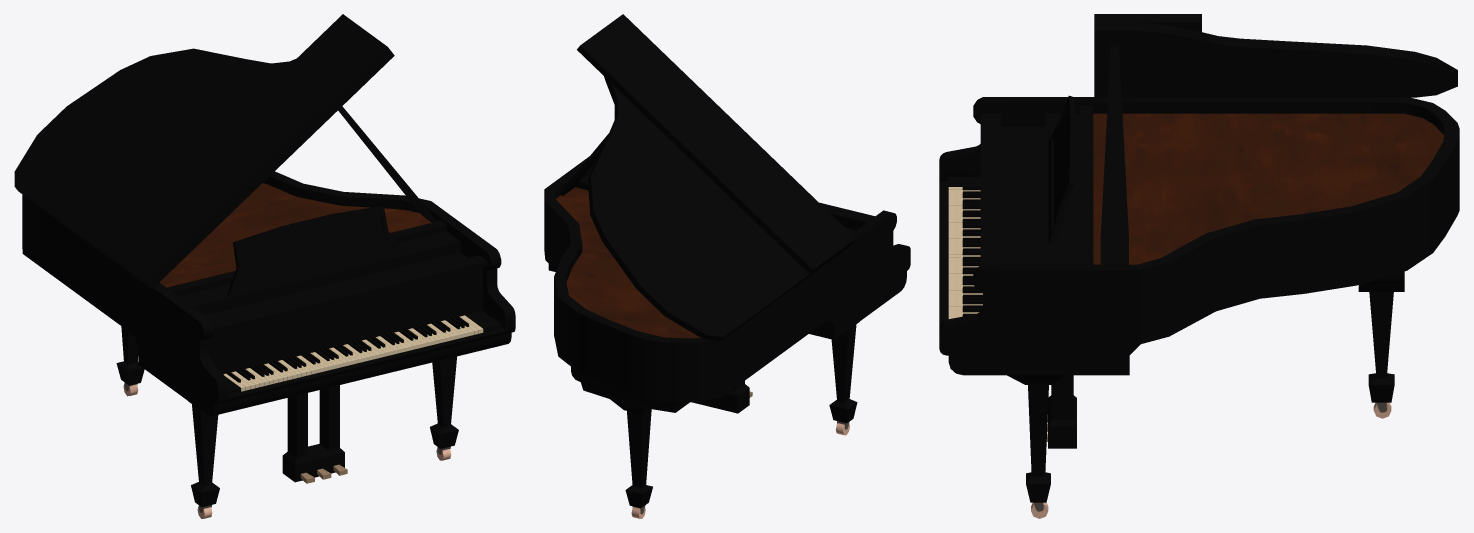
The model's file is piano-classic.glb.
3 renders of one model, left to right at view 1: azimuth 30°, elevation 25°; view 2: azimuth 150°, elevation 25°; view 3: azimuth 270°, elevation 25°, orthographic. The views are drawn at different scales.
Visible parts, largest first — view 1: Cap, Front, body, Cap2, Note, Cube.002, leg, key_whait, key_black.001, Stick, key_black.002, leg_back (+1 smaller); view 2: Cap, body, Cap2, Front, leg_back, leg, Cube.002, Stick; view 3: body, Front, Cap, Stick, leg_back, Note, leg, key_whait, Cube.002, key_black.001, Cap2, key_black.002.
Part boxes in pixels (box(x1,y1,x2,y2)): Cap: box(14, 48, 394, 288); Front: box(159, 183, 487, 374); body: box(22, 171, 515, 416); Cap2: box(100, 14, 390, 284); Note: box(227, 206, 405, 296); Cube.002: box(282, 385, 344, 482); leg: box(188, 356, 458, 506); key_whait: box(223, 315, 483, 391); key_black.001: box(250, 315, 469, 376); Stick: box(338, 106, 436, 222); key_black.002: box(235, 319, 450, 380); leg_back: box(116, 326, 144, 385); Cap: box(587, 76, 852, 341); body: box(544, 156, 910, 402); Cap2: box(577, 14, 855, 273); Front: box(556, 174, 874, 338); leg_back: box(571, 367, 689, 508); leg: box(829, 321, 859, 423); Cube.002: box(692, 381, 749, 413); Stick: box(559, 133, 608, 196); body: box(939, 97, 1459, 375); Front: box(980, 105, 1443, 265); Cap: box(1094, 22, 1457, 97); Stick: box(1100, 44, 1128, 264); leg_back: box(1358, 271, 1404, 402); Note: box(1048, 95, 1075, 243); leg: box(1007, 375, 1063, 502); key_whait: box(948, 187, 982, 318); Cube.002: box(1048, 375, 1076, 448); key_black.001: box(962, 199, 982, 316); Cap2: box(1094, 14, 1201, 31); key_black.002: box(962, 191, 982, 312).
Size of the model in its own units: 1.51 by 1.91 by 1.86.
7 materials, 7 textured.
